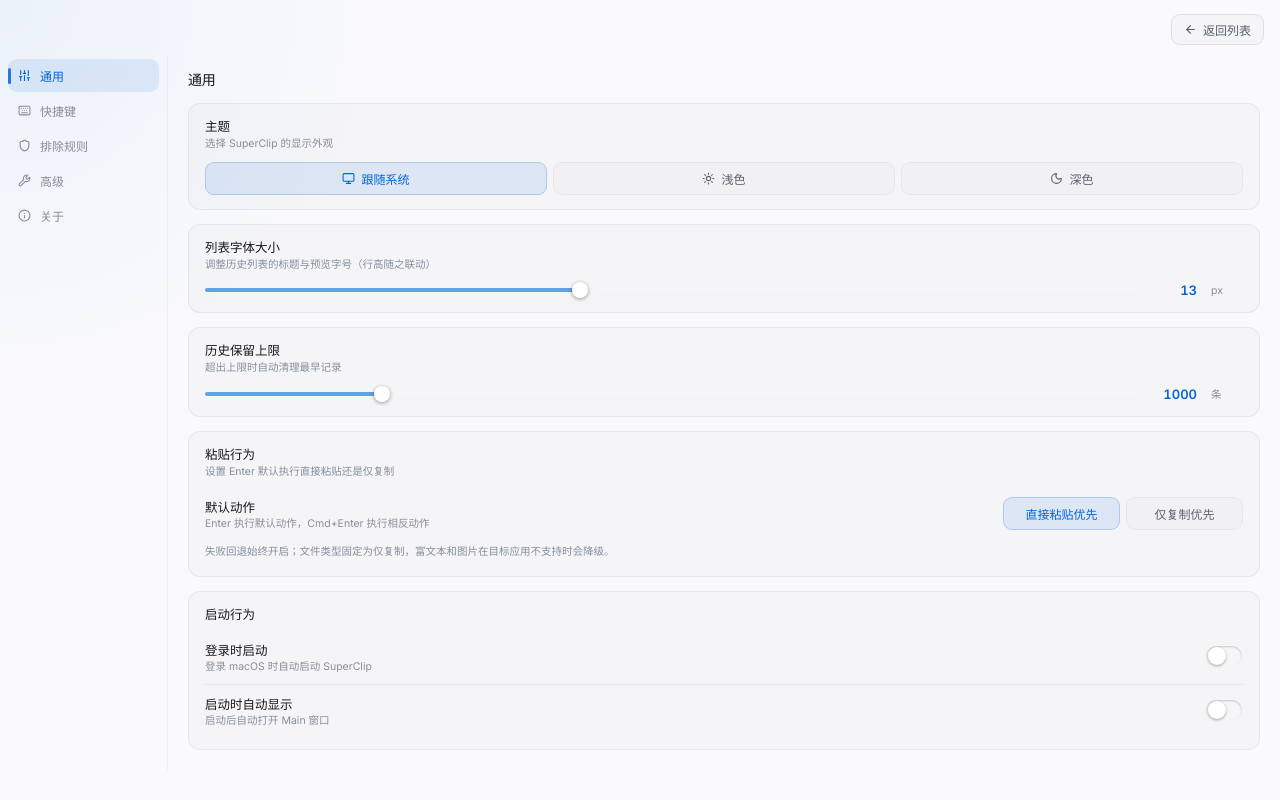
Test: SettingsShell (F2 分区化) › 切到快捷键分区：全局快捷键录入 + 应用内快捷键卡
This screenshot has width=1280, height=800.
Click the button "快捷键".
click(84, 110)  # box [8,94,159,127]
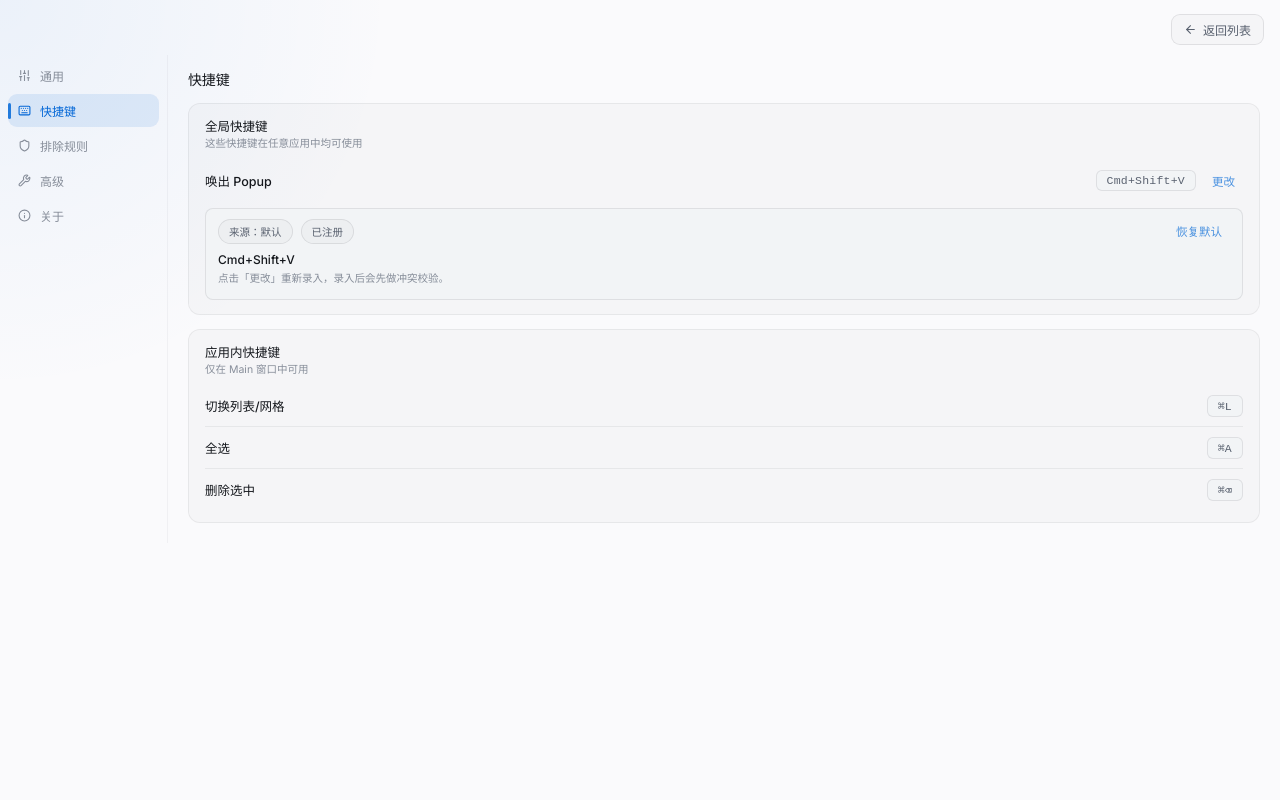
Expected: the text "唤出 Popup" is shown, [205,171,272,190]
Expected: the heading "应用内快捷键" is shown, [205,345,280,360]
Expected: the text "⌘L" is shown, [1207,395,1243,417]
